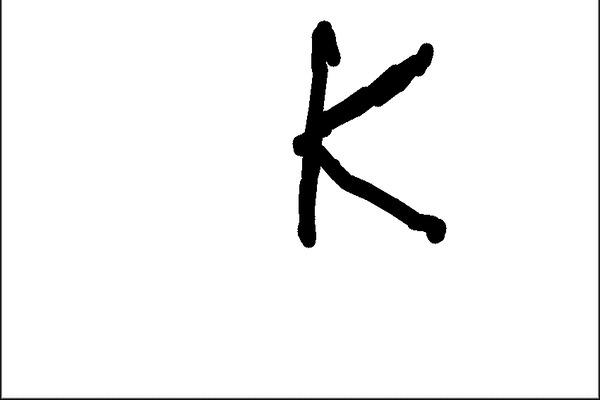K: (290, 12, 454, 260)
